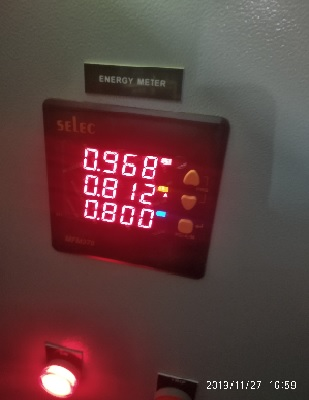Red_Led_On: (33, 358, 83, 398)
